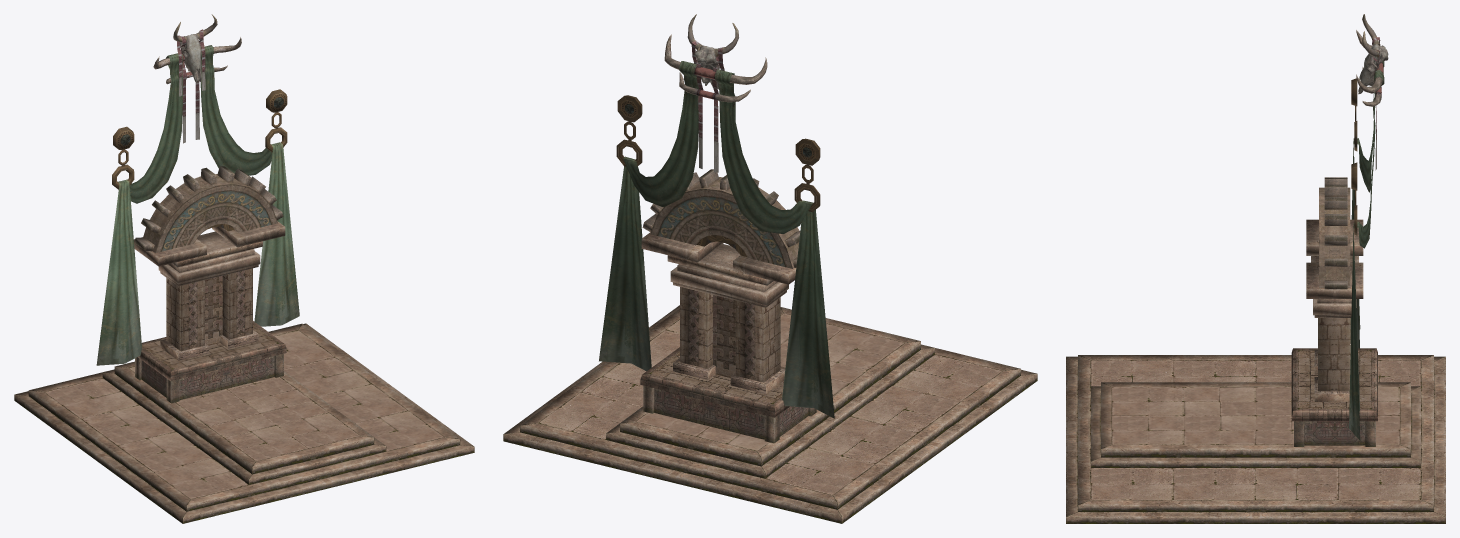
Rendered from Cave.fbx.
The picture shows the model from 3 angles, left to right: view 1: azimuth 30°, elevation 25°; view 2: azimuth 150°, elevation 25°; view 3: azimuth 270°, elevation 25°; orthographic projection. The views are drawn at different scales.
Visible parts, largest first — view 1: LV_AncientTower_Object_WarpGate_SM_NWCVCT; view 2: LV_AncientTower_Object_WarpGate_SM_NWCVCT; view 3: LV_AncientTower_Object_WarpGate_SM_NWCVCT.
Boxes of the visible parts, x1,y1,x2,y2 form: LV_AncientTower_Object_WarpGate_SM_NWCVCT: [14, 14, 474, 523]; LV_AncientTower_Object_WarpGate_SM_NWCVCT: [503, 14, 1037, 523]; LV_AncientTower_Object_WarpGate_SM_NWCVCT: [1066, 14, 1445, 523].
Bounding box in the file's own units: 3.2 × 3.92 × 3.2.
2 materials, 2 textured.
